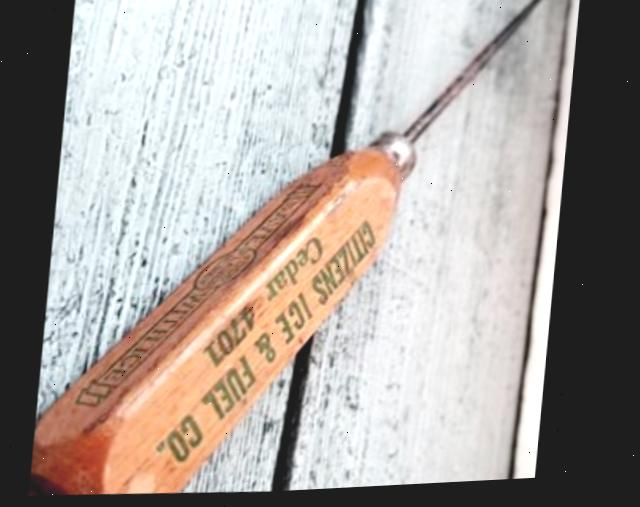ice pick: (33, 0, 569, 505)
